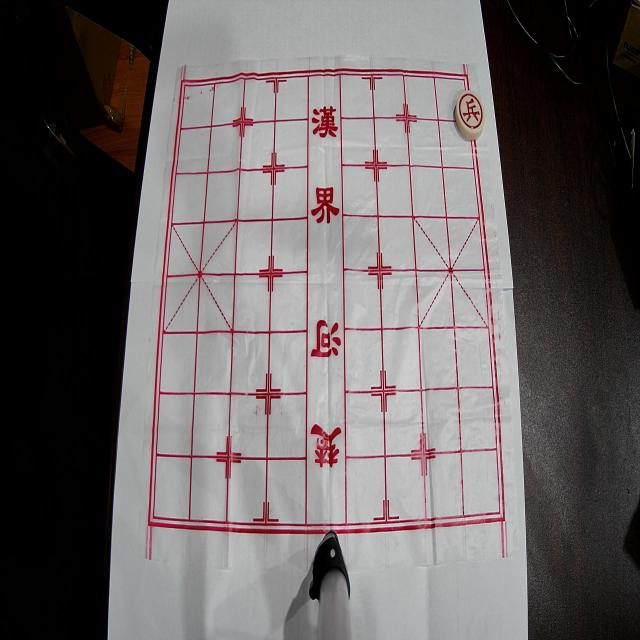red-soldier: (455, 91, 485, 140)
